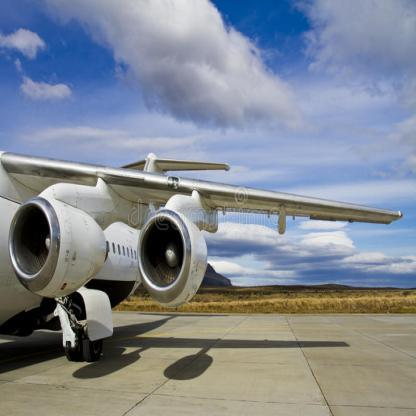CIV_Plane: (0, 146, 407, 362)
